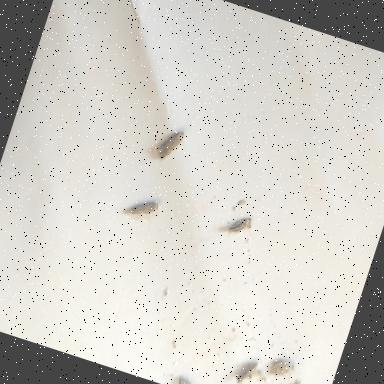pbw: (154, 125, 186, 164), (124, 194, 160, 224), (266, 355, 297, 382), (232, 356, 259, 384), (226, 219, 249, 238), (176, 376, 201, 384)
